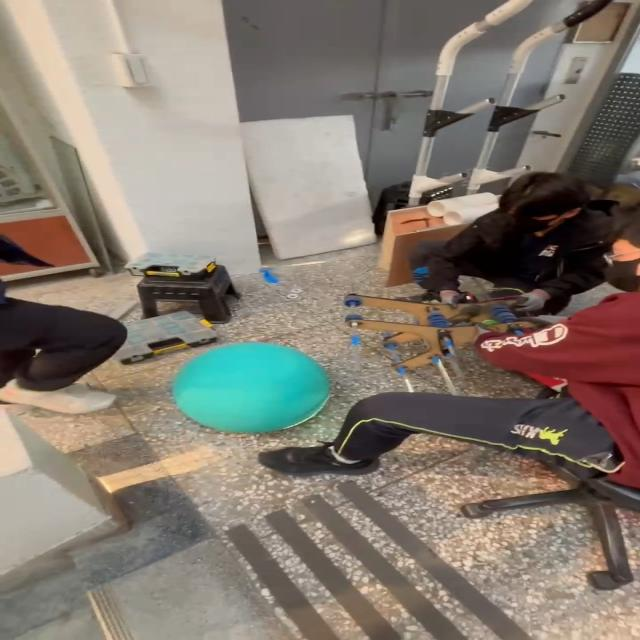ALGAE: (169, 340, 331, 434)
